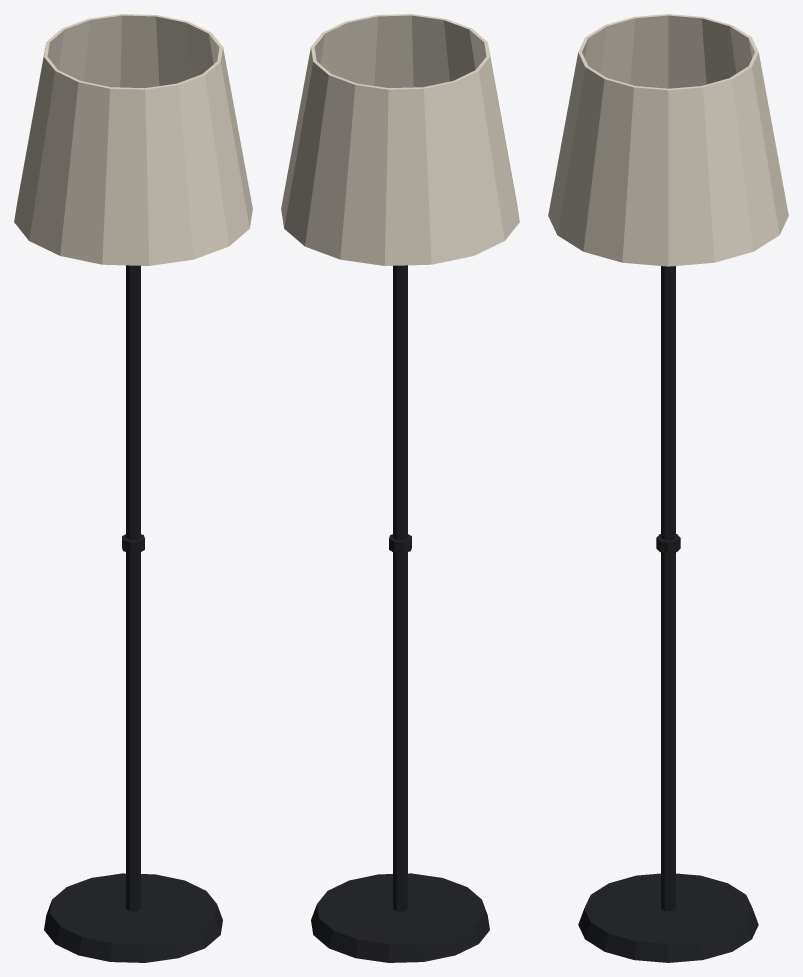
Rendered from mi_floor_lamp.glb.
3 views of the same model, side by side, from view 1: azimuth 30°, elevation 25°; view 2: azimuth 150°, elevation 25°; view 3: azimuth 270°, elevation 25° (orthographic).
Parts seen in each view (by area): view 1: SM_Living_FloorLamp; view 2: SM_Living_FloorLamp; view 3: SM_Living_FloorLamp.
Boxes of the visible parts, box(x1,y1,x2,y2) form: SM_Living_FloorLamp: box(14, 14, 252, 962); SM_Living_FloorLamp: box(281, 14, 519, 962); SM_Living_FloorLamp: box(548, 14, 788, 962).
Size of the model in its own units: 0.4 by 1.6 by 0.4.
2 materials, 1 textured.
